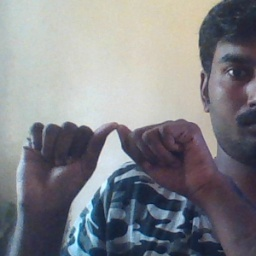A: (18, 113, 206, 200)
